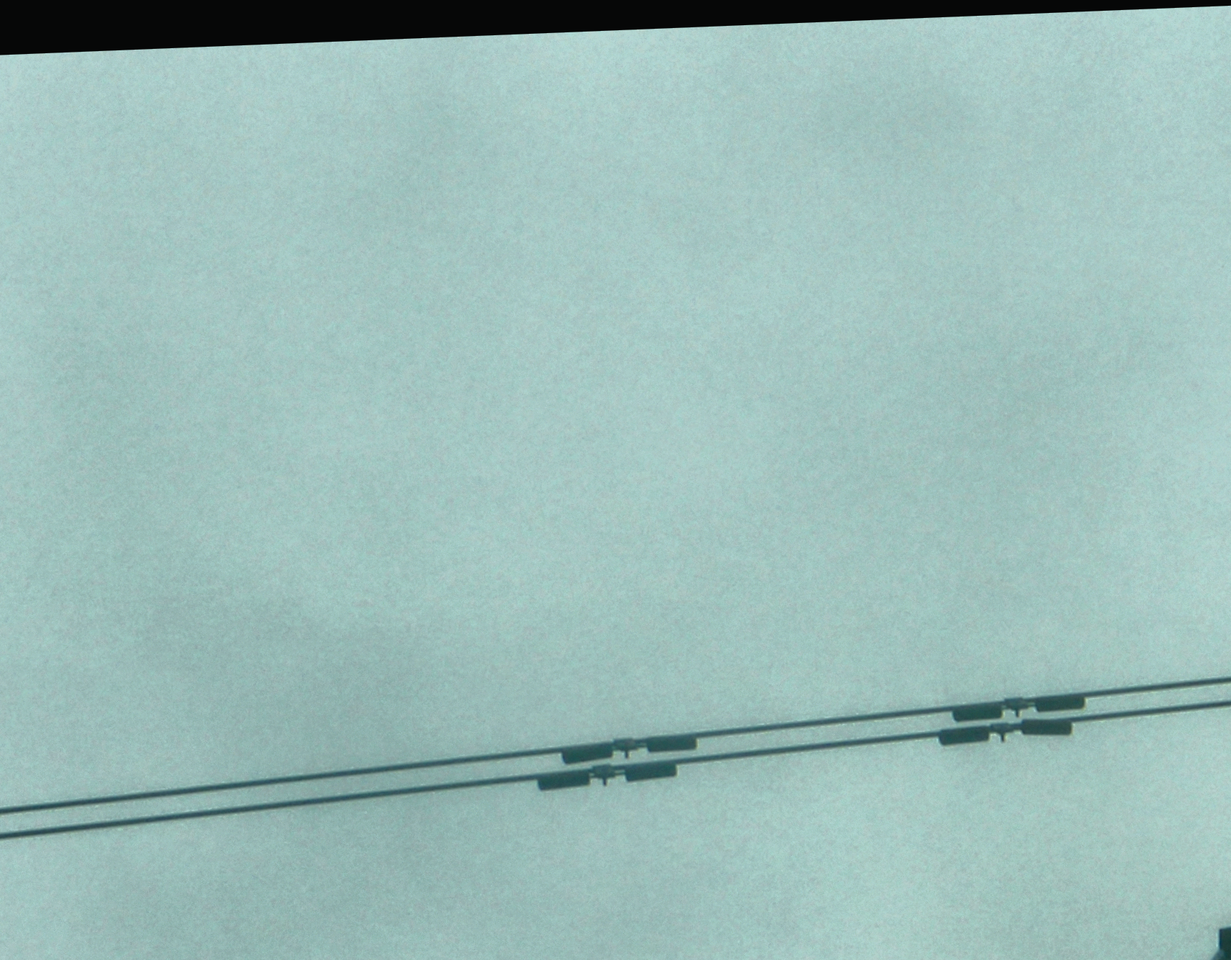damper: (533, 756, 681, 796), (554, 729, 698, 769), (937, 712, 1076, 750), (950, 691, 1089, 725)
